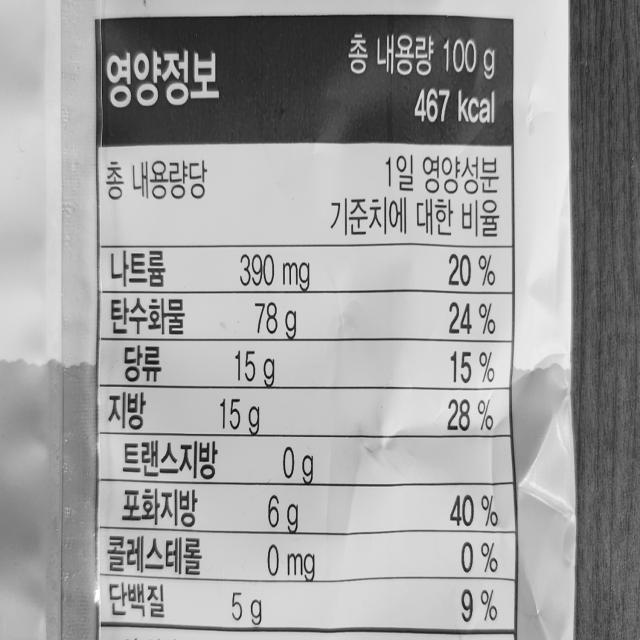Nutrition Label: (88, 7, 525, 640)
